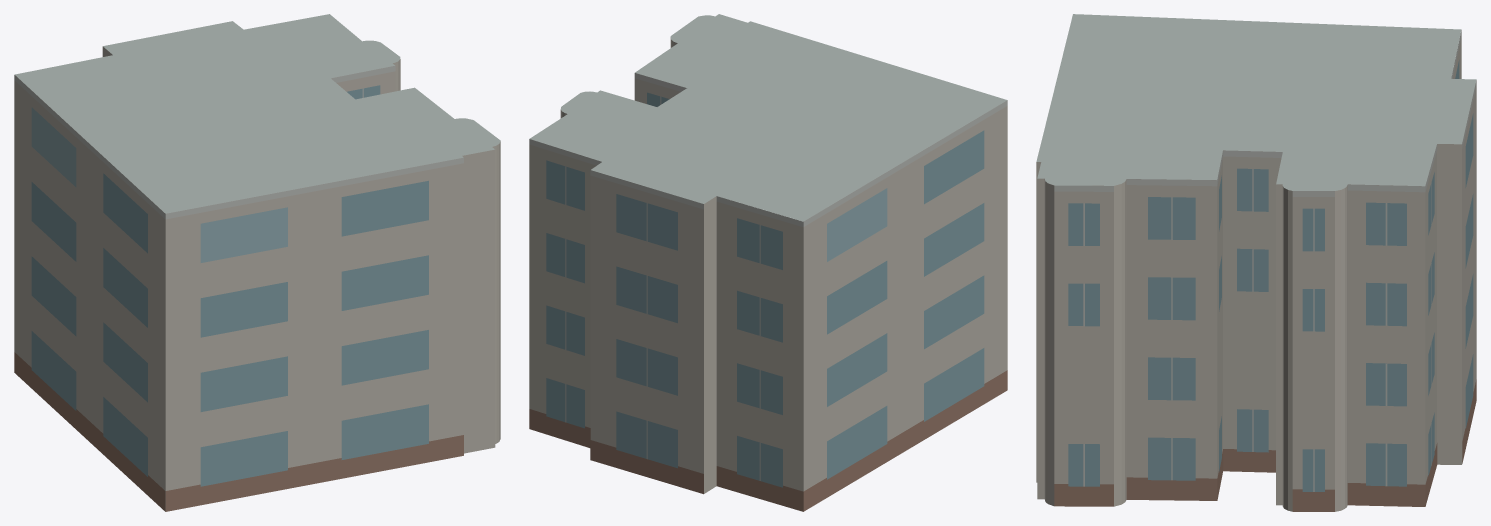
Rendered from survey-upis-32666316.glb.
The picture shows the model from 3 angles, left to right: view 1: azimuth 30°, elevation 25°; view 2: azimuth 150°, elevation 25°; view 3: azimuth 270°, elevation 25°; orthographic projection. The views are drawn at different scales.
Visible parts, largest first — view 1: survey-upis-32666316.tmp; view 2: survey-upis-32666316.tmp; view 3: survey-upis-32666316.tmp.
Part boxes in pixels (x1=…): survey-upis-32666316.tmp: x1=14, y1=14, x2=500, y2=511; survey-upis-32666316.tmp: x1=529, y1=14, x2=1007, y2=511; survey-upis-32666316.tmp: x1=1036, y1=14, x2=1476, y2=511.
Bounding box in the file's own units: 15.22 × 12.85 × 15.99.
